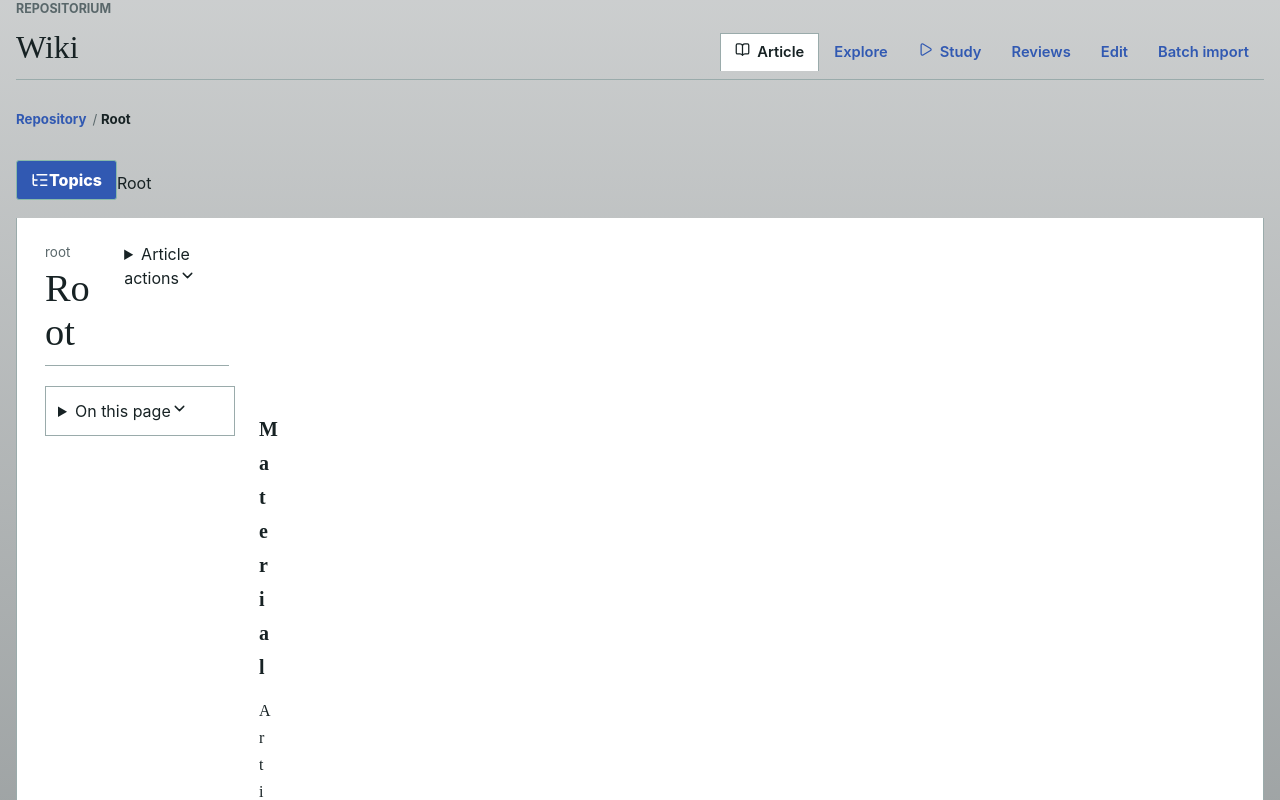
Test: keeps studied markers in the portalled phone tree with an SVG check in a fixed status slot
Expected: the heading "Root" is shown, [45, 267, 90, 353]
Click the button "Topics". click: (66,180)
box: [16, 160, 117, 200]
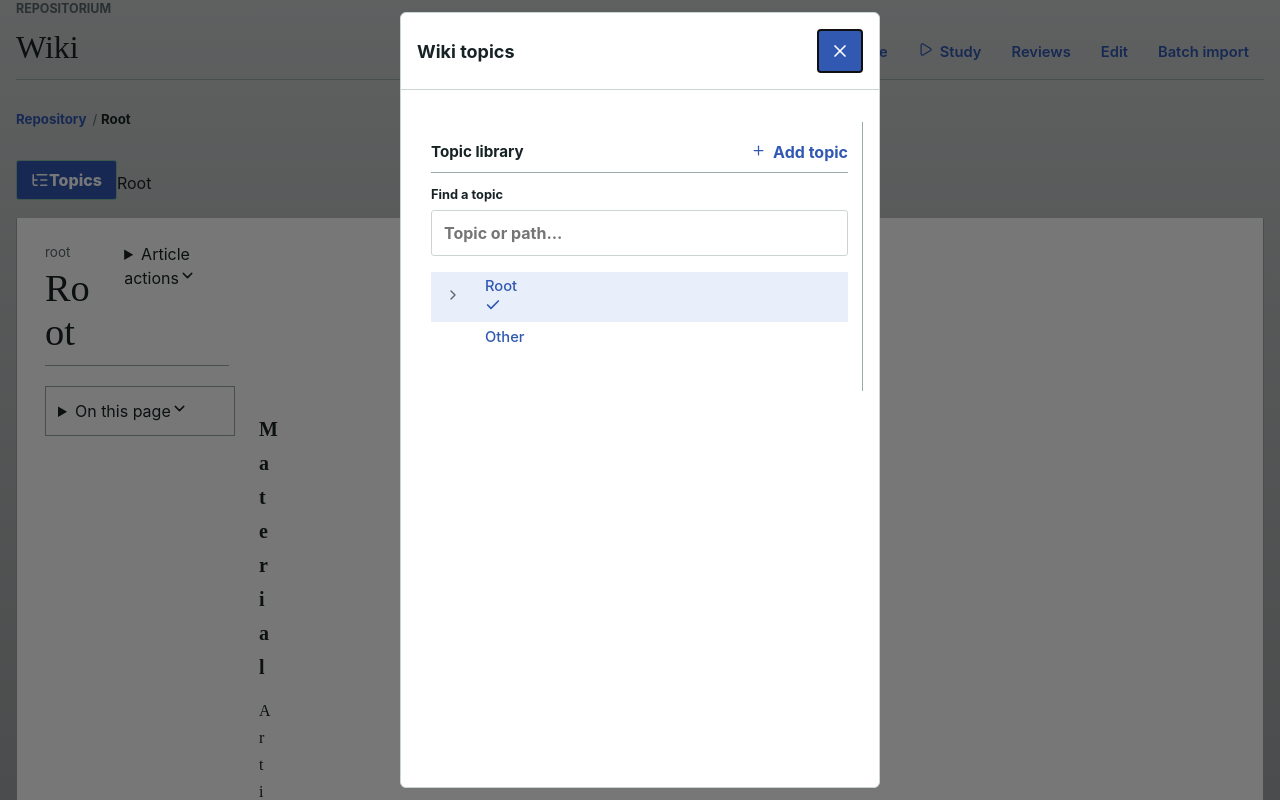
Expected: the list "Root" is shown, [431, 272, 848, 367]
Expected: the 4th icon is shown, [485, 297, 501, 313]
Expected: the text with class "wiki-tree-title" reads "Root", [485, 277, 517, 295]
